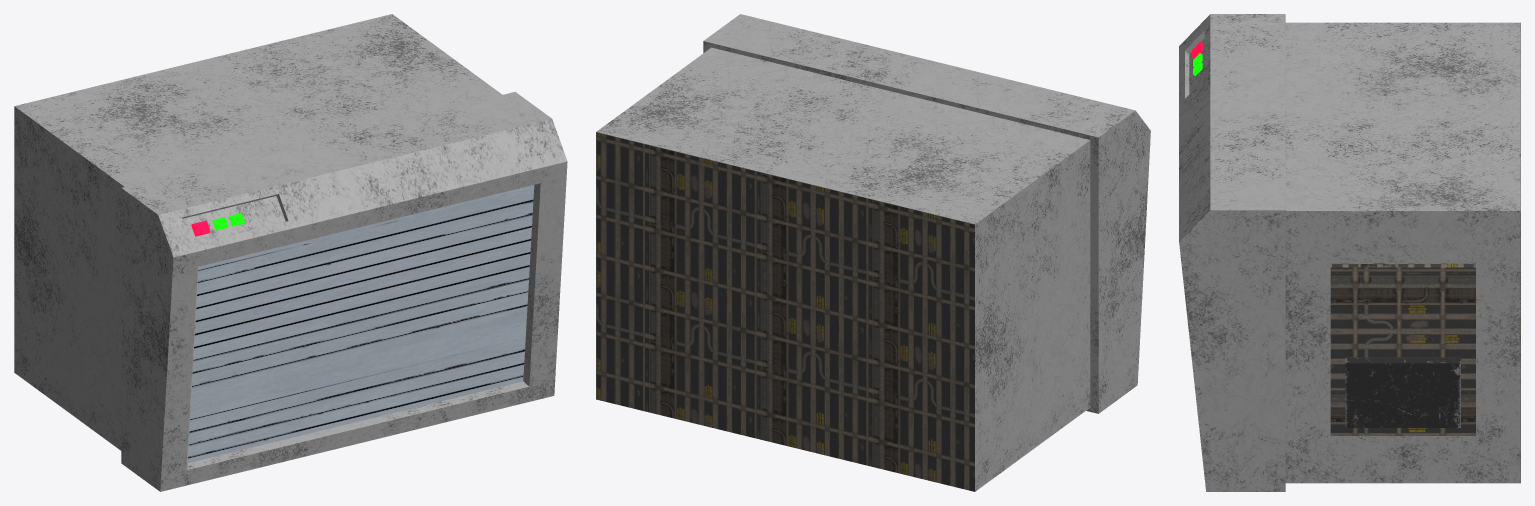
File: ac unit.fbx
3 renders of one model, left to right at view 1: azimuth 30°, elevation 25°; view 2: azimuth 150°, elevation 25°; view 3: azimuth 270°, elevation 25°, orthographic. The views are drawn at different scales.
Visible parts, largest first — view 1: Cube; view 2: Cube; view 3: Cube.
Part boxes in pixels (left/top/right/bottom): Cube: left=14, top=14, right=567, bottom=491; Cube: left=596, top=14, right=1150, bottom=491; Cube: left=1179, top=14, right=1520, bottom=491.
Bounding box in the file's own units: 409 × 264 × 291.
Materials: 3 (1 with a texture image).
